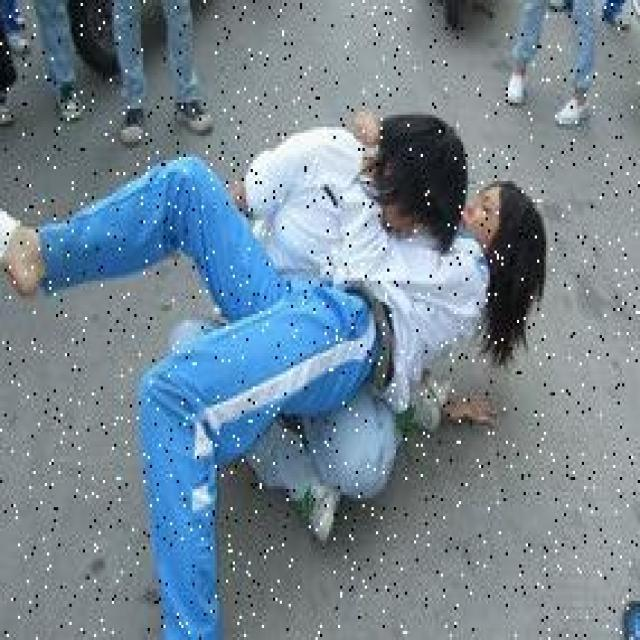fall: (99, 175, 550, 456)
